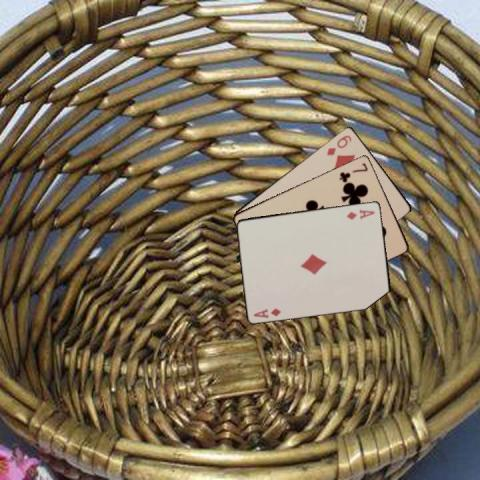6d: (323, 132, 353, 157)
7c: (336, 160, 369, 183)
Ad: (343, 206, 377, 221), (250, 306, 282, 319)
